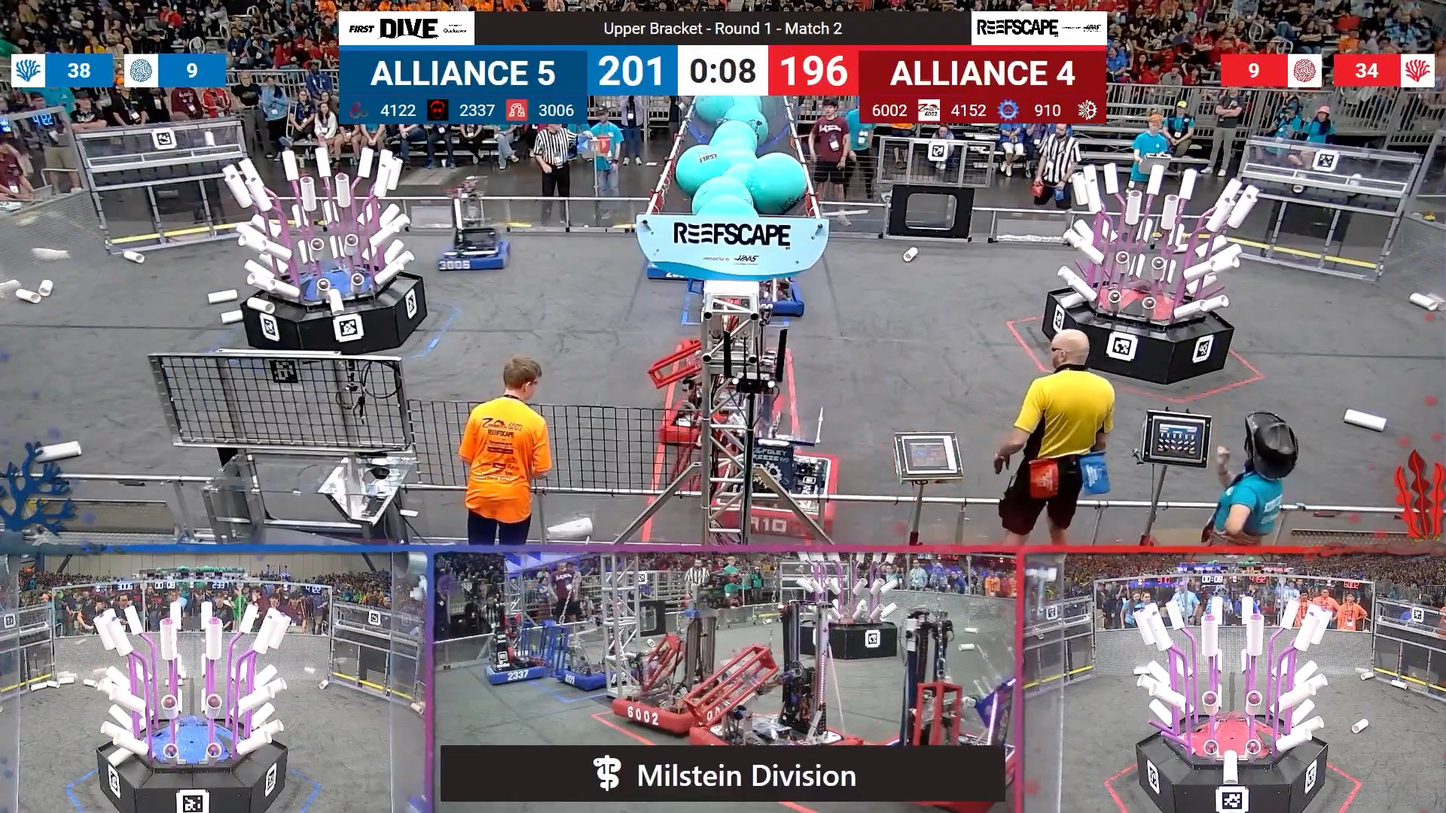bumpers: (606, 686, 729, 729), (430, 238, 516, 275), (475, 658, 554, 688), (748, 280, 809, 316), (552, 663, 624, 690)
